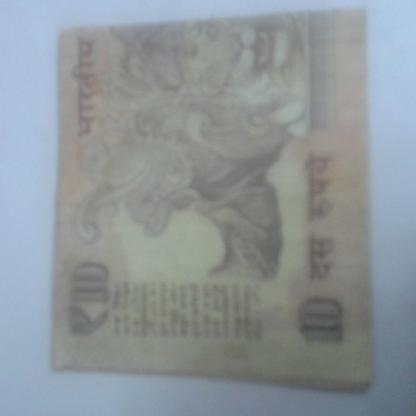Old10Back: (50, 9, 375, 392)
